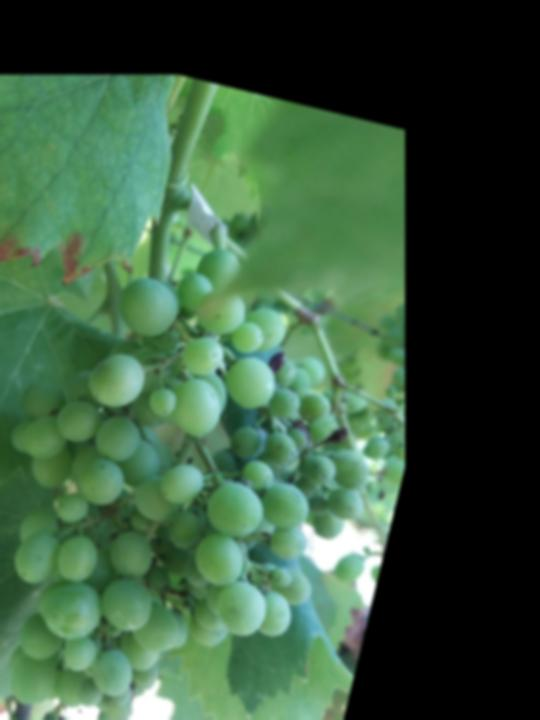grape: (0, 209, 419, 720)
